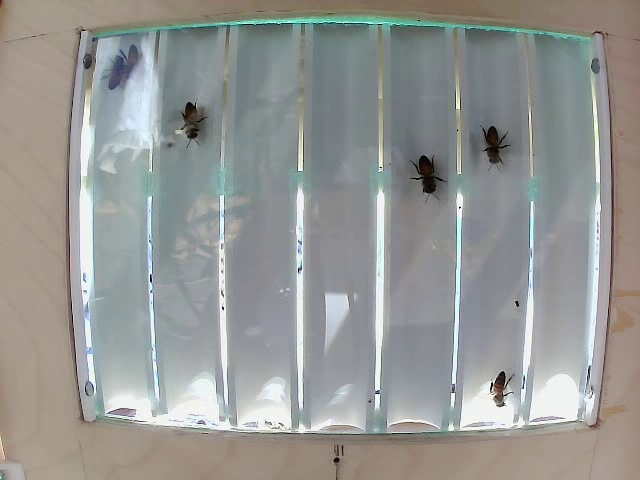bee: (411, 148, 446, 194), (474, 118, 506, 168), (479, 366, 517, 406), (183, 97, 213, 142), (99, 46, 131, 78)
